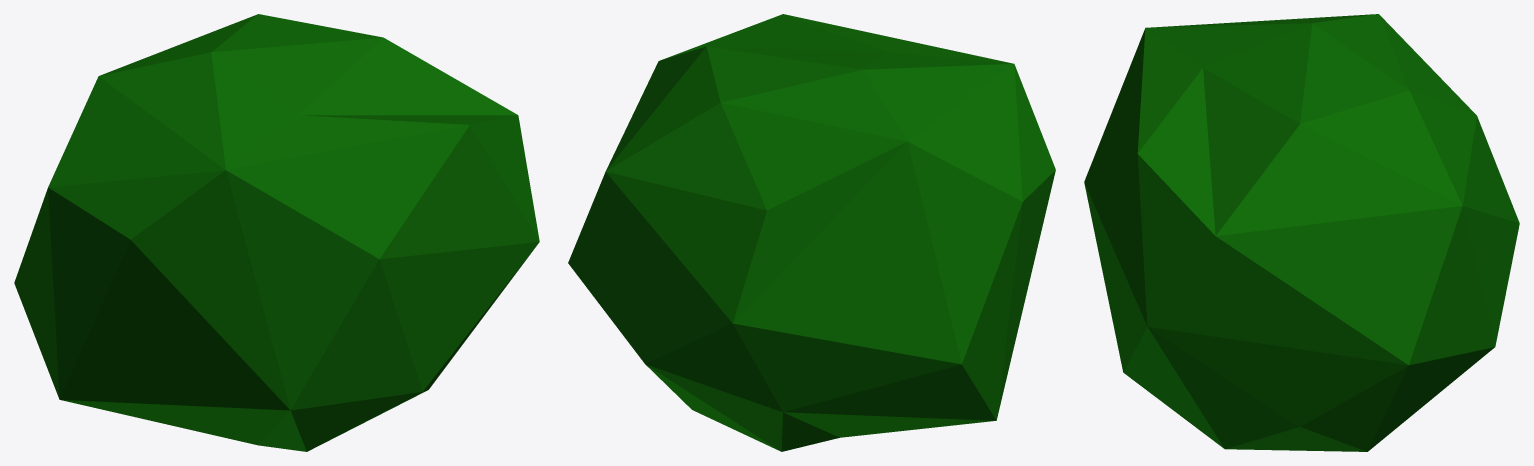
File: downBush.fbx
3 renders of one model, left to right at view 1: azimuth 30°, elevation 25°; view 2: azimuth 150°, elevation 25°; view 3: azimuth 270°, elevation 25°, orthographic. The views are drawn at different scales.
Parts seen in each view (by area): view 1: Icosphere; view 2: Icosphere; view 3: Icosphere.
Part boxes in pixels (box(x1,y1,x2,y2)): Icosphere: box(14, 14, 539, 451); Icosphere: box(568, 14, 1055, 451); Icosphere: box(1084, 14, 1519, 451).
Size of the model in its own units: 102 by 90.74 by 92.36.
